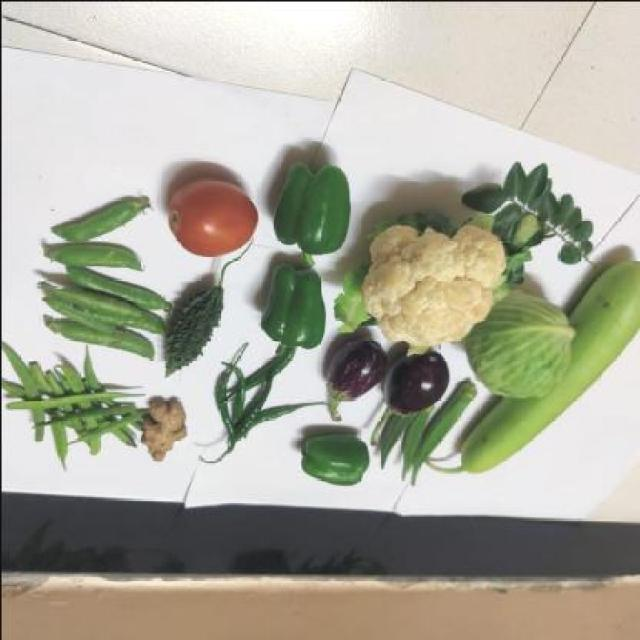Bitter melon: (162, 258, 226, 394)
Brinjal: (310, 340, 384, 420), (372, 354, 450, 418)
Cabbage: (466, 303, 577, 397)
Calabash: (431, 262, 638, 476)
Capsicum: (266, 156, 359, 262), (250, 264, 328, 358), (296, 428, 372, 490)
Cauliflower: (360, 220, 502, 351)
Ginger: (138, 392, 190, 462)
Green Chili: (206, 357, 299, 451)
Lady finger: (376, 417, 449, 477)
Tomato: (168, 169, 257, 257)
